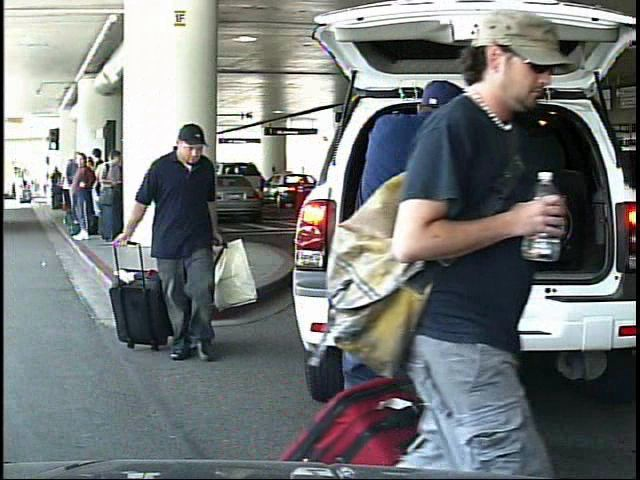person: (355, 12, 550, 476), (329, 72, 510, 475), (110, 124, 239, 369), (13, 174, 24, 205)
